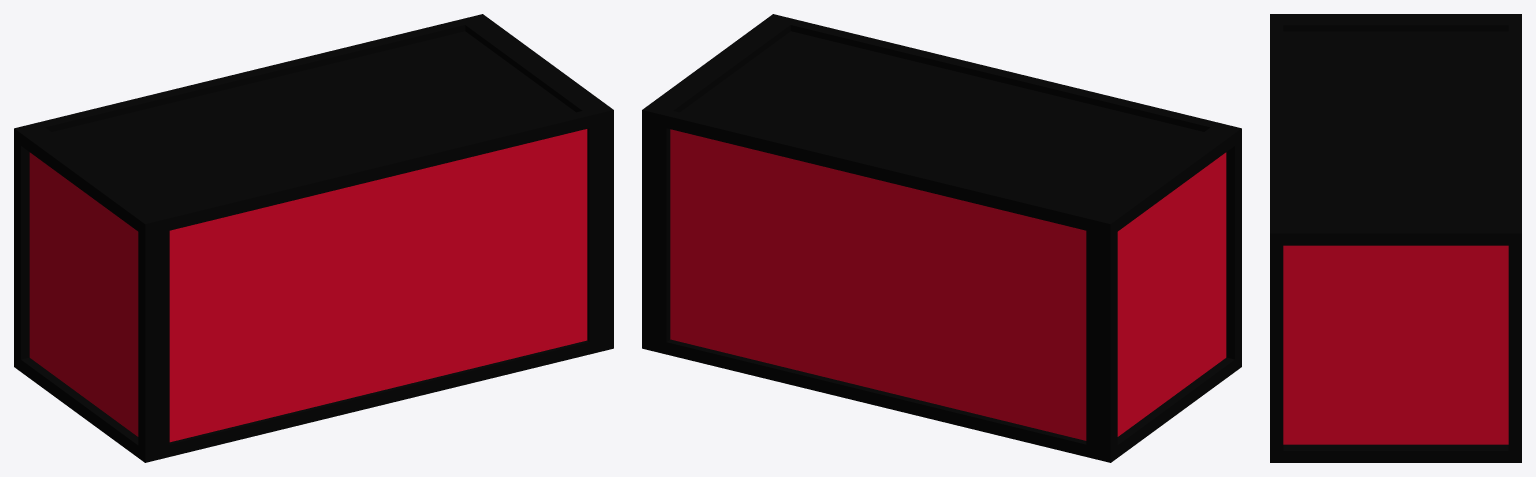
3 renders of one model, left to right at view 1: azimuth 30°, elevation 25°; view 2: azimuth 150°, elevation 25°; view 3: azimuth 270°, elevation 25°, orthographic. The views are drawn at different scales.
Visible parts, largest first — view 1: Building8; view 2: Building8; view 3: Building8.
Boxes of the visible parts, x1,y1,x2,y2 form: Building8: (14,14,613,462); Building8: (642,14,1241,462); Building8: (1270,14,1521,462).
Size of the model in its own units: 7910 by 3850 by 3831.
